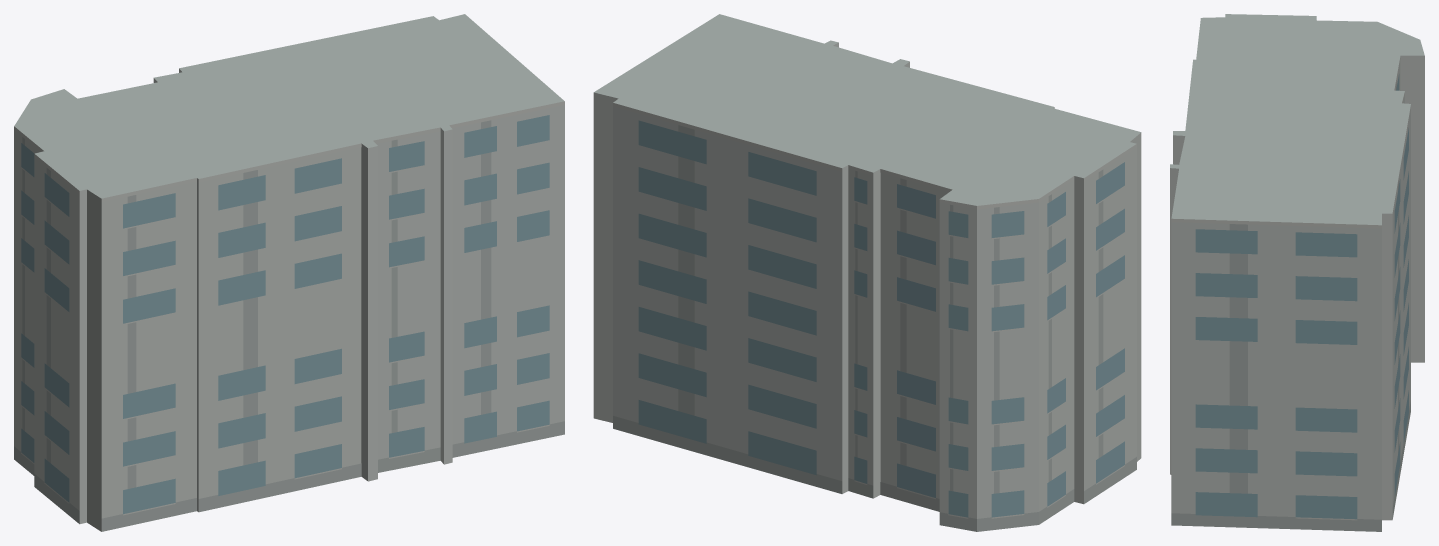
Rendered from survey-upis-32571412.glb.
3 views of the same model, side by side, from view 1: azimuth 30°, elevation 25°; view 2: azimuth 150°, elevation 25°; view 3: azimuth 270°, elevation 25° (orthographic). The views are drawn at different scales.
Visible parts, largest first — view 1: survey-upis-32571412.tmp; view 2: survey-upis-32571412.tmp; view 3: survey-upis-32571412.tmp.
Boxes of the visible parts, box(x1,y1,x2,y2) form: survey-upis-32571412.tmp: box(14, 14, 564, 531); survey-upis-32571412.tmp: box(593, 14, 1141, 531); survey-upis-32571412.tmp: box(1170, 14, 1424, 531).
Size of the model in its own units: 32.33 by 21.88 by 16.48.
